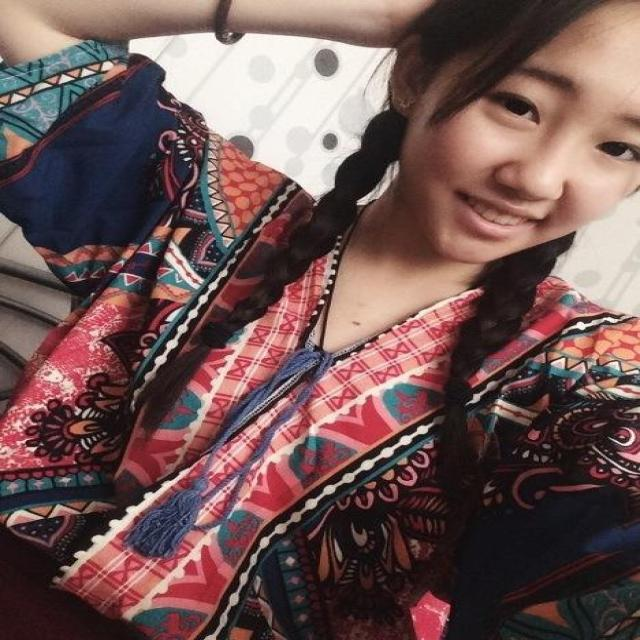long sleeve top: (1, 41, 639, 638)
